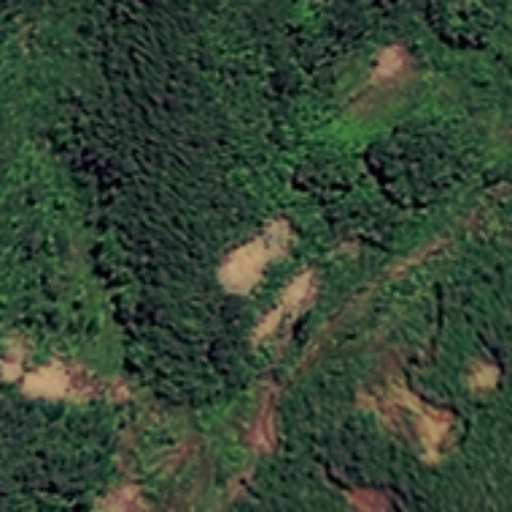landslide: (219, 217, 462, 508), (6, 338, 182, 509), (371, 40, 416, 85)
